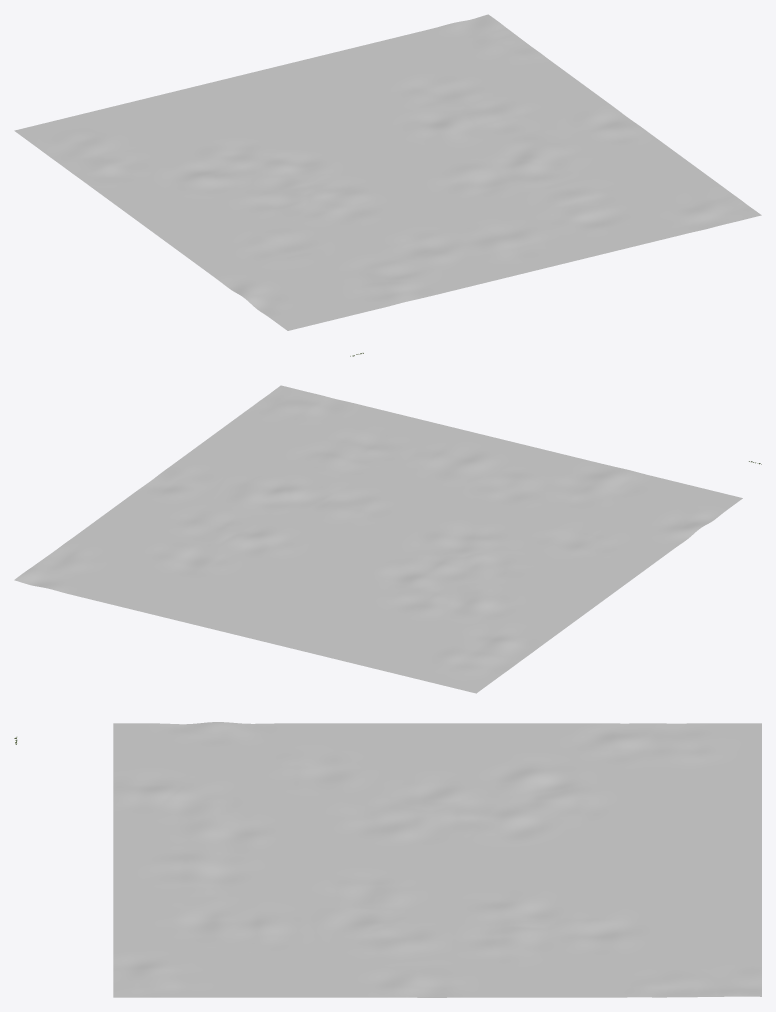
File: Grass_patches_fbx.FBX
The picture shows the model from 3 angles, top to bottom: view 1: azimuth 30°, elevation 25°; view 2: azimuth 150°, elevation 25°; view 3: azimuth 270°, elevation 25°; orthographic projection. The views are drawn at different scales.
Parts seen in each view (by area): view 1: field_ground_multiscatter; view 2: field_ground_multiscatter; view 3: field_ground_multiscatter.
Part boxes in pixels (x1,y1,x2,y2): field_ground_multiscatter: [14, 14, 761, 330]; field_ground_multiscatter: [14, 385, 742, 693]; field_ground_multiscatter: [113, 722, 761, 997].
Bounding box in the file's own units: 30000 × 132 × 34585.
